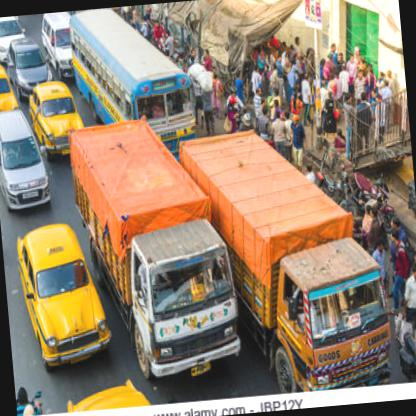bus: (67, 1, 198, 158)
car: (16, 222, 112, 368), (0, 108, 53, 212), (28, 80, 90, 162), (38, 11, 84, 84), (6, 36, 52, 100), (0, 15, 29, 63)
motorcycle: (396, 310, 415, 388)
truck: (175, 120, 395, 401), (69, 115, 241, 390)
